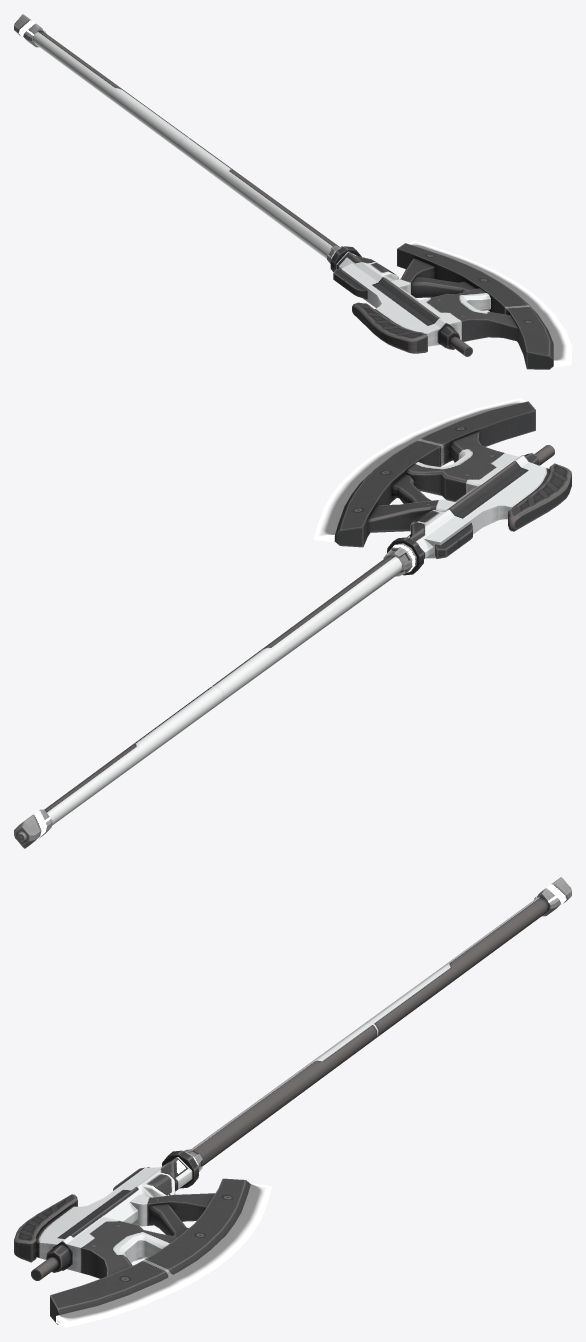
Rendered from MeleePoleAxe01.FBX.
3 views of the same model, one above another, from view 1: azimuth 30°, elevation 25°; view 2: azimuth 150°, elevation 25°; view 3: azimuth 330°, elevation 25° (orthographic). The views are drawn at different scales.
Visible parts, largest first — view 1: MeleePoleAxe01; view 2: MeleePoleAxe01; view 3: MeleePoleAxe01.
Part boxes in pixels (x1,y1,x2,y2): MeleePoleAxe01: (14, 14, 571, 369); MeleePoleAxe01: (14, 398, 571, 848); MeleePoleAxe01: (14, 877, 571, 1327).
Size of what is drawn, in the model's own units: 0.3768 by 0.0688 by 2.03.
